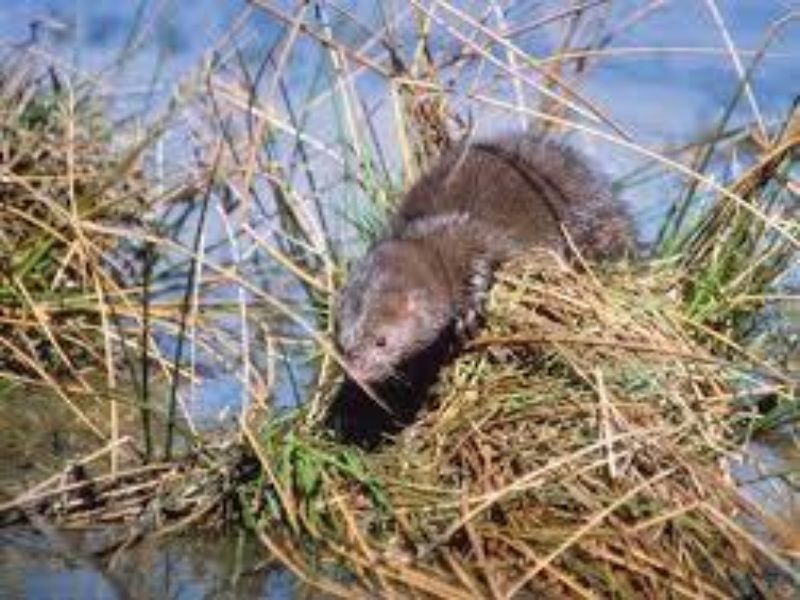minkish: (334, 127, 635, 400)
